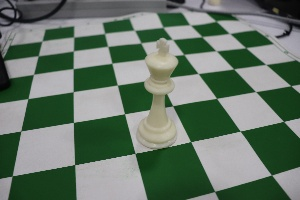white_king: (134, 29, 180, 153)
